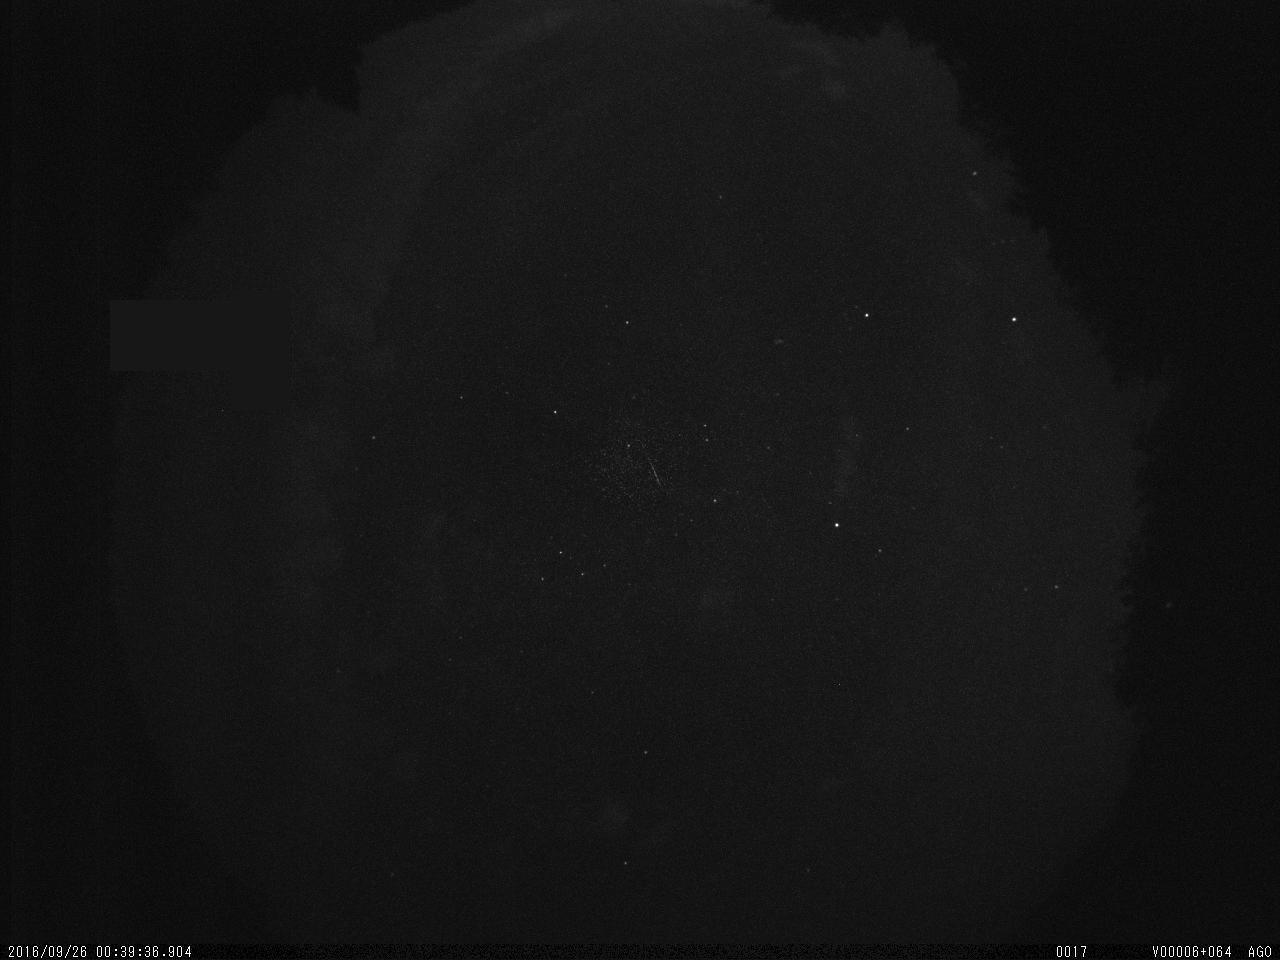meteor: (624, 426, 682, 515)
